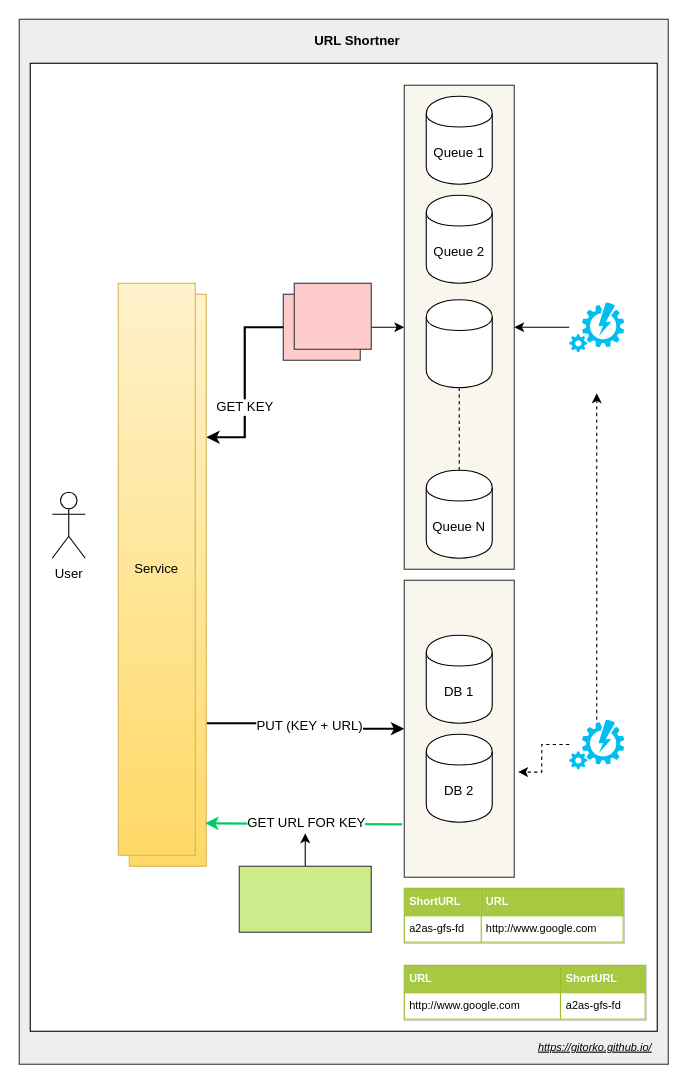
The diagram is 688 pixels wide and 1084 high, and some of its shapes have lost their labels. Here are the shapes that lost their labels. From the top down, the centre of each, then its label:
point 332,315: Consistent Hashing
point 596,326: Generate Key Service
point 458,343: Queue 3
point 596,744: Reconciliation Task
point 304,898: CACHE
